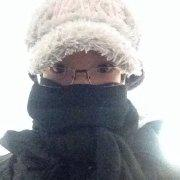OK: (36, 42, 126, 130)
